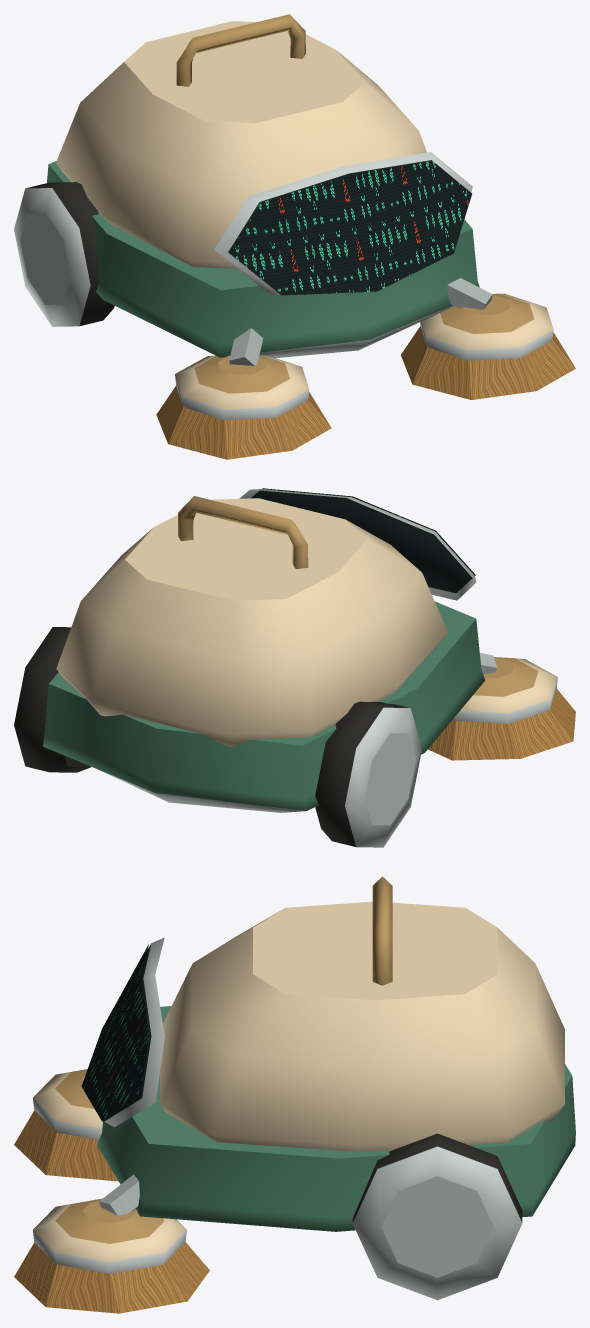
The model's file is Sweeper-L2.fbx.
3 views of the same model, one above another, from view 1: azimuth 30°, elevation 25°; view 2: azimuth 150°, elevation 25°; view 3: azimuth 270°, elevation 25° (orthographic). The views are drawn at different scales.
Parts seen in each view (by area): view 1: Sweeper_Body, Sweeper_Head_Face, Sweeper_BrushL, Sweeper_BrushR; view 2: Sweeper_Body, Sweeper_BrushL; view 3: Sweeper_Body, Sweeper_BrushR, Sweeper_BrushL, Sweeper_Head_Face.
Boxes of the visible parts, x1,y1,x2,y2 form: Sweeper_Body: (14,14,492,365); Sweeper_Head_Face: (229,161,471,295); Sweeper_BrushL: (156,355,331,459); Sweeper_BrushR: (401,293,575,399); Sweeper_Body: (14,489,496,847); Sweeper_BrushL: (428,657,575,760); Sweeper_Body: (97,876,575,1300); Sweeper_BrushR: (14,1198,209,1313); Sweeper_BrushL: (14,1069,118,1181); Sweeper_Head_Face: (81,944,149,1121).
Size of the model in its own units: 0.7128 by 0.4779 by 0.7874.
Materials: 2 (2 with a texture image).
